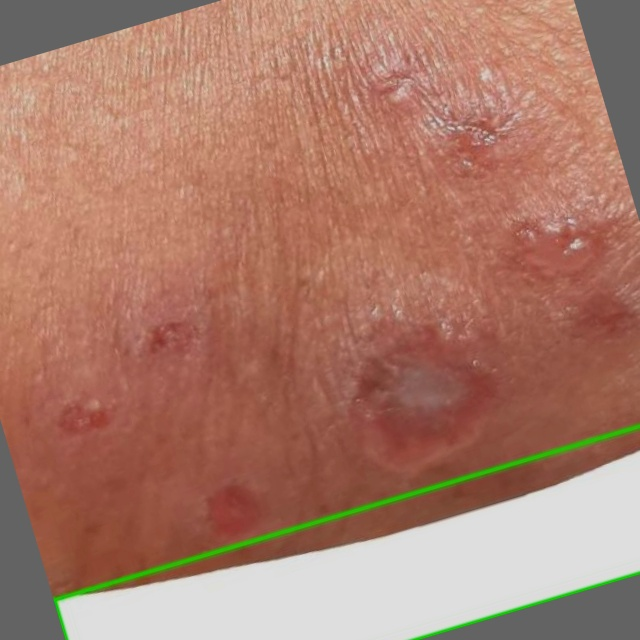Contact Dermatitis: (54, 426, 639, 639)
